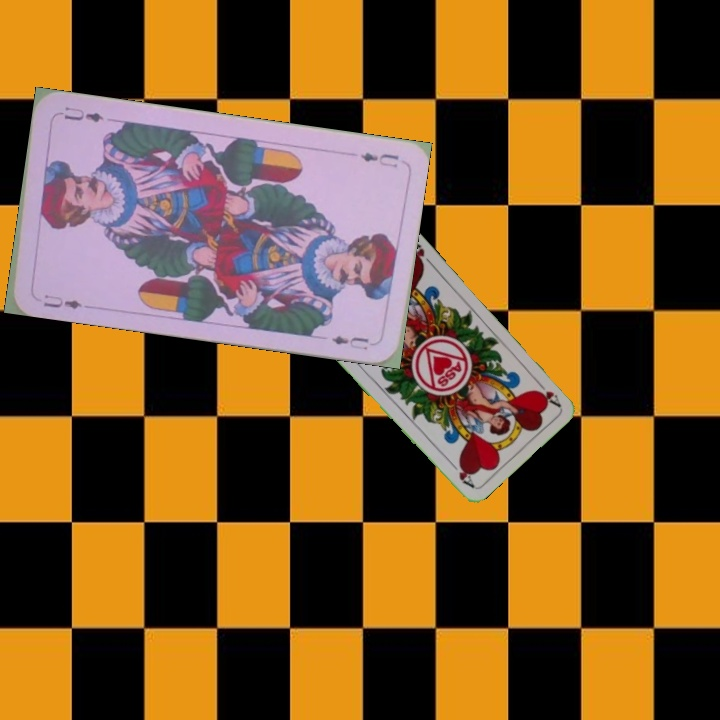EU: (40, 290, 89, 312), (356, 149, 401, 170)
HA: (531, 375, 563, 409)
